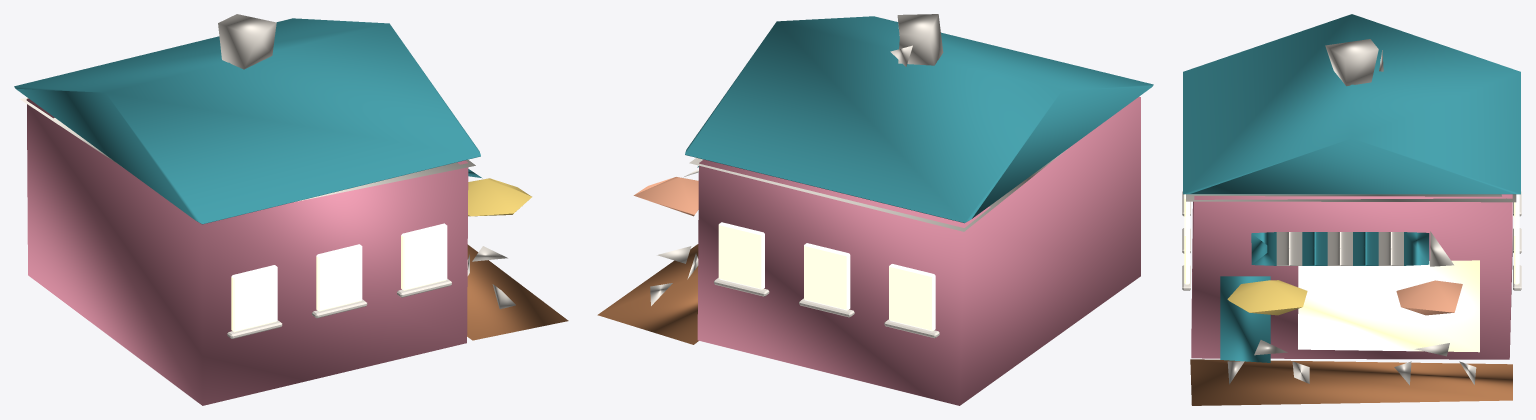
Rendered from cafe.glb.
3 views of the same model, side by side, from view 1: azimuth 30°, elevation 25°; view 2: azimuth 150°, elevation 25°; view 3: azimuth 270°, elevation 25° (orthographic). The views are drawn at different scales.
Parts seen in each view (by area): view 1: cafe; view 2: cafe; view 3: cafe.
Part boxes in pixels (x1,y1,x2,y2): cafe: [14, 14, 568, 405]; cafe: [597, 14, 1153, 405]; cafe: [1182, 14, 1521, 405].
Size of the model in its own units: 8.38 by 6.14 by 7.34.
Materials: 1 (1 with a texture image).
